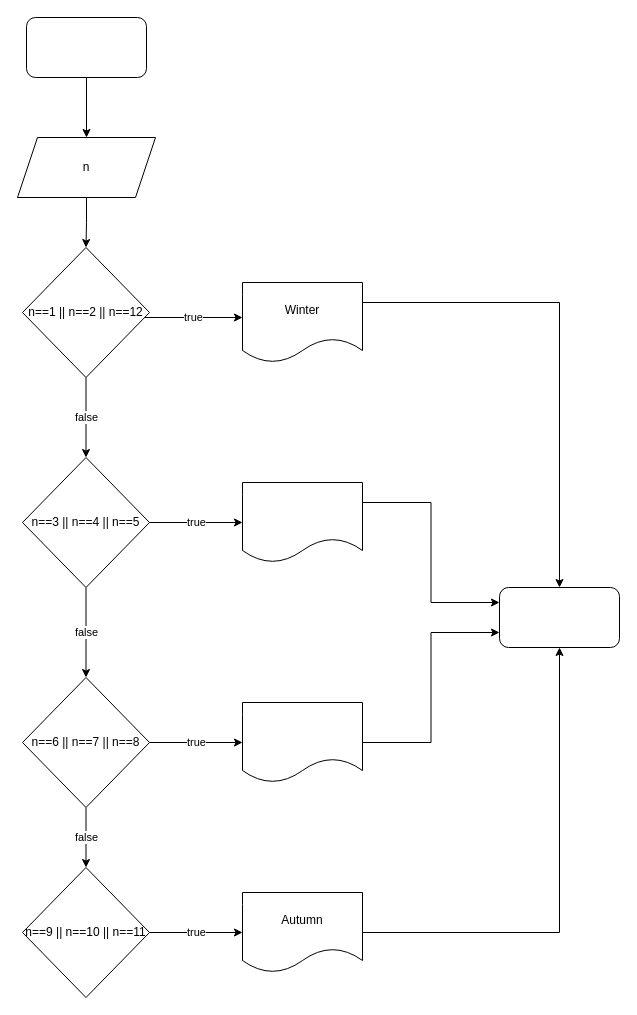
Some shapes in this 637 by 1015 pixel diagram are drawn without their labels. Each missing label, with the box of its shape:
End: (498, 586, 620, 648)
Spring: (242, 482, 362, 562)
Start: (26, 16, 146, 78)
Summer: (242, 702, 362, 782)
